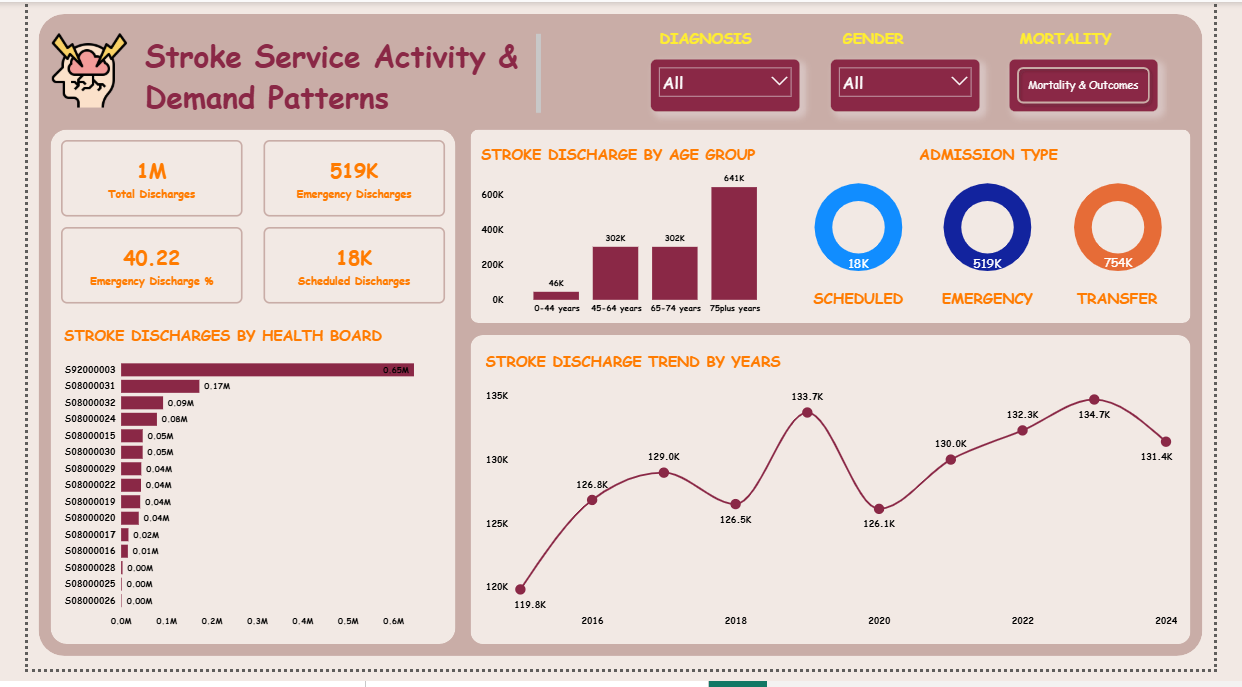

This screenshot's page, from the dashboard's own definition file:
{"tool":"powerbi","page":{"name":"Stroke Service Activity & Demand Patterns","canvas":[1920,1080],"ordinal":0},"visuals":[{"type":"donutChart","fields":{"Category":["stroke_activity.AdmissionType"],"Y":["Dim_AgeGroup.Total Discharges"]},"box":[1226.6,250.6,235.6,228.3],"z":0,"group":"g1"},{"type":"shape","box":[17,19.4,1884.8,1039.5],"z":0},{"type":"donutChart","fields":{"Category":["stroke_activity.AdmissionType"],"Y":["Dim_AgeGroup.Total Discharges"]},"box":[1436.7,250.6,235.6,228.3],"z":1000,"group":"g1"},{"type":"textbox","box":[184.6,46.1,650.9,140.9],"z":1000},{"type":"donutChart","fields":{"Category":["stroke_activity.AdmissionType"],"Y":["Dim_AgeGroup.Total Discharges"]},"box":[1646.8,250.6,235.6,228.3],"z":2000,"group":"g1"},{"type":"textbox","box":[1017.7,36.4,172.4,43.7],"z":2000},{"type":"textbox","box":[1314,36.4,126.3,43.7],"z":3000},{"type":"slicer","fields":{"Values":["Dim_Diagnosis.Diagnosis"]},"box":[1008,92.3,241.9,85],"z":4000},{"type":"image","box":[36.4,46.1,126.3,131.2],"z":5000},{"type":"slicer","fields":{"Values":["Dim_Gender.Gender"]},"box":[1298.3,92.3,241.9,85],"z":6000},{"type":"shape","box":[36.4,206.5,655.8,833.1],"z":7000},{"type":"shape","box":[716.5,539.2,1165.8,500.3],"z":8000},{"type":"shape","box":[716.5,206.5,1165.8,313.3],"z":9000},{"type":"card","fields":{"Values":["Dim_AgeGroup.Total Discharges"]},"box":[53.4,223.5,293.9,123.9],"z":10000},{"type":"card","fields":{"Values":["Dim_AgeGroup.Emergency Discharges"]},"box":[381.3,223.5,293.9,123.9],"z":11000},{"type":"card","fields":{"Values":["Dim_AgeGroup.Emergency Discharge %"]},"box":[53.4,364.3,293.9,123.9],"z":12000},{"type":"card","fields":{"Values":["Dim_AgeGroup.Scheduled Discharges"]},"box":[381.3,364.3,293.9,123.9],"z":13000},{"type":"textbox","box":[53.4,517.3,573.2,43.7],"z":14000},{"type":"barChart","fields":{"Category":["Dim_HealthBoard.HealthBoard"],"Y":["Sum(stroke_activity.Discharges)"]},"box":[53.4,561.1,621.8,461.5],"z":15000},{"type":"lineChart","fields":{"Y":["Sum(stroke_activity.Discharges)"],"Category":["Dim_Year.Year"]},"box":[735.9,602.4,1129.4,420.2],"z":16000},{"type":"textbox","box":[735.9,558.6,573.2,43.7],"z":17000},{"type":"textbox","box":[728.7,223.5,573.2,43.7],"z":18000},{"type":"columnChart","fields":{"Category":["Dim_AgeGroup.AgeGroup"],"Y":["Sum(stroke_activity.Discharges)"]},"box":[728.7,259.9,497.9,255],"z":19000},{"type":"textbox","box":[1437.9,223.5,257.5,43.7],"z":20000},{"type":"group","id":"g1","title":"Group 2","box":[1226.6,250.6,655.8,228.3],"z":21000},{"type":"textbox","box":[1260.6,456.6,167.6,43.7],"z":22000},{"type":"textbox","box":[1471.9,456.6,162.7,43.7],"z":23000},{"type":"textbox","box":[1680.8,456.6,165.2,43.7],"z":24000},{"type":"actionButton","box":[1588.5,92.3,241,85],"z":25000},{"type":"textbox","box":[1600.6,36.4,218.6,43.7],"z":26000}]}

Visuals, with their boxes in screenshot pixels (x1, y1, x2, y2), scaled from the page's 1920x1080 canvas onto the 1242x687 screenshot:
donutChart - stroke_activity.AdmissionType x Dim_AgeGroup.Total Discharges: (793, 159, 946, 305)
shape: (11, 12, 1230, 674)
donutChart - stroke_activity.AdmissionType x Dim_AgeGroup.Total Discharges: (929, 159, 1082, 305)
textbox: (119, 29, 540, 119)
donutChart - stroke_activity.AdmissionType x Dim_AgeGroup.Total Discharges: (1065, 159, 1218, 305)
textbox: (658, 23, 770, 51)
textbox: (850, 23, 932, 51)
slicer - Dim_Diagnosis.Diagnosis: (652, 59, 809, 113)
image: (24, 29, 105, 113)
slicer - Dim_Gender.Gender: (840, 59, 996, 113)
shape: (24, 131, 448, 661)
shape: (463, 343, 1218, 661)
shape: (463, 131, 1218, 331)
card - Dim_AgeGroup.Total Discharges: (35, 142, 225, 221)
card - Dim_AgeGroup.Emergency Discharges: (247, 142, 437, 221)
card - Dim_AgeGroup.Emergency Discharge %: (35, 232, 225, 311)
card - Dim_AgeGroup.Scheduled Discharges: (247, 232, 437, 311)
textbox: (35, 329, 405, 357)
barChart - Dim_HealthBoard.HealthBoard x Sum(stroke_activity.Discharges): (35, 357, 437, 650)
lineChart - Sum(stroke_activity.Discharges) x Dim_Year.Year: (476, 383, 1207, 650)
textbox: (476, 355, 847, 383)
textbox: (471, 142, 842, 170)
columnChart - Dim_AgeGroup.AgeGroup x Sum(stroke_activity.Discharges): (471, 165, 793, 328)
textbox: (930, 142, 1097, 170)
"Group 2" group: (793, 159, 1218, 305)
textbox: (815, 290, 924, 318)
textbox: (952, 290, 1057, 318)
textbox: (1087, 290, 1194, 318)
actionButton: (1028, 59, 1183, 113)
textbox: (1035, 23, 1177, 51)
